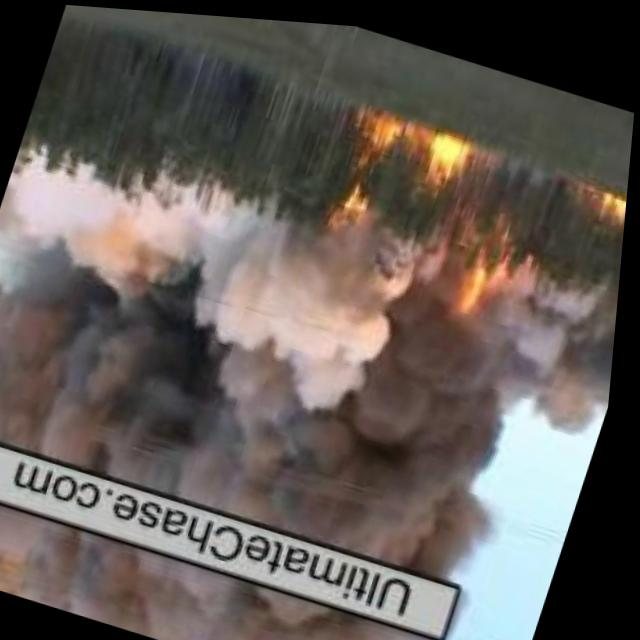Fire: (310, 93, 480, 256), (452, 233, 503, 331), (591, 178, 630, 220)
